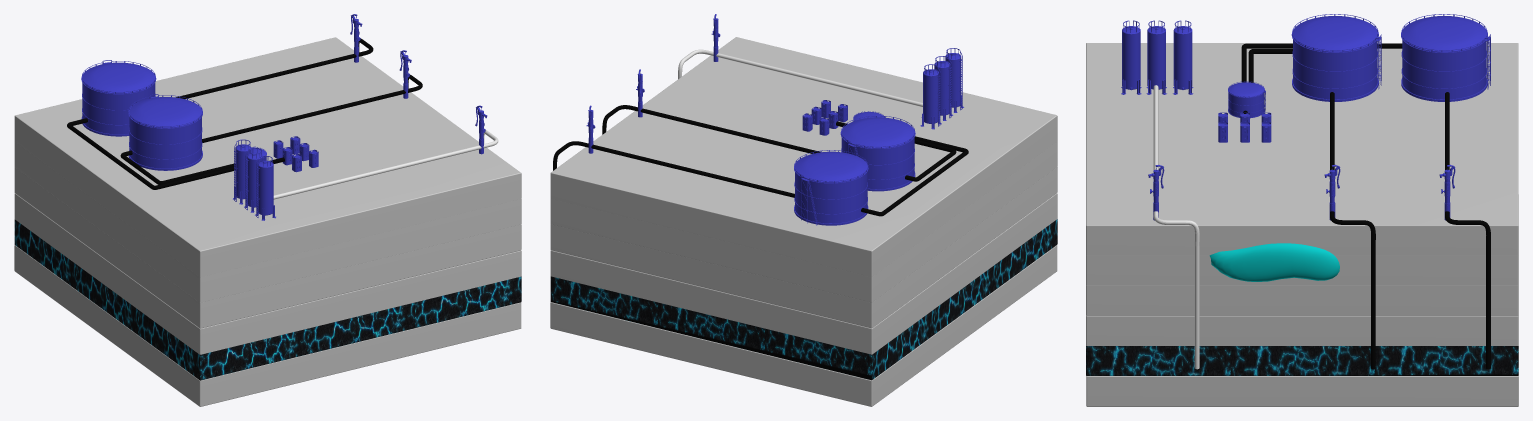
The model's file is Subsuelo.fbx.
The picture shows the model from 3 angles, left to right: view 1: azimuth 30°, elevation 25°; view 2: azimuth 150°, elevation 25°; view 3: azimuth 270°, elevation 25°; orthographic projection. The views are drawn at different scales.
Visible parts, largest first — view 1: subsuelo_1, subsuelo_5, subsuelo_4, subsuelo_3, subsuelo_6, subsuelo_2, Cylinder16, oil_tank:Cylinder16, ModelSubsuelo, pCylinder21, pCylinder20, Vertical_Storage_Tank_Black:Mesh (+3 smaller); view 2: subsuelo_1, subsuelo_5, subsuelo_4, subsuelo_3, subsuelo_6, subsuelo_2, oil_tank:Cylinder16, Cylinder16, ModelSubsuelo, pCylinder21, pCylinder22, pCylinder20 (+3 smaller); view 3: subsuelo_1, subsuelo_5, subsuelo_3, subsuelo_4, subsuelo_6, subsuelo_2, Cylinder16, oil_tank:Cylinder16, pCube11, ModelSubsuelo, pCylinder21, pCylinder20 (+5 smaller).
Part boxes in pixels (left/top/right/bottom): subsuelo_1: left=14, top=37, right=521, bottom=277; subsuelo_5: left=14, top=245, right=521, bottom=406; subsuelo_4: left=14, top=193, right=521, bottom=354; subsuelo_3: left=14, top=167, right=521, bottom=328; subsuelo_6: left=14, top=219, right=521, bottom=380; subsuelo_2: left=14, top=142, right=521, bottom=302; Cylinder16: left=128, top=94, right=202, bottom=170; oil_tank:Cylinder16: left=81, top=60, right=156, bottom=136; ModelSubsuelo: left=233, top=14, right=487, bottom=212; pCylinder21: left=273, top=130, right=498, bottom=199; pCylinder20: left=202, top=75, right=422, bottom=142; Vertical_Storage_Tank_Black:Mesh: left=255, top=155, right=275, bottom=220; subsuelo_1: left=550, top=37, right=1057, bottom=276; subsuelo_5: left=550, top=245, right=1057, bottom=406; subsuelo_4: left=550, top=193, right=1057, bottom=354; subsuelo_3: left=550, top=167, right=1057, bottom=328; subsuelo_6: left=550, top=219, right=1057, bottom=380; subsuelo_2: left=550, top=141, right=1057, bottom=302; oil_tank:Cylinder16: left=794, top=150, right=868, bottom=225; Cylinder16: left=840, top=115, right=915, bottom=191; ModelSubsuelo: left=586, top=14, right=952, bottom=153; pCylinder21: left=678, top=49, right=922, bottom=106; pCylinder22: left=553, top=141, right=794, bottom=197; pCylinder20: left=602, top=105, right=820, bottom=153; subsuelo_1: left=1086, top=43, right=1518, bottom=255; subsuelo_5: left=1086, top=194, right=1518, bottom=406; subsuelo_3: left=1086, top=285, right=1518, bottom=315; subsuelo_4: left=1086, top=315, right=1518, bottom=345; subsuelo_6: left=1086, top=346, right=1518, bottom=375; subsuelo_2: left=1086, top=255, right=1518, bottom=285; Cylinder16: left=1291, top=14, right=1381, bottom=101; oil_tank:Cylinder16: left=1401, top=14, right=1490, bottom=101; pCube11: left=1209, top=243, right=1339, bottom=281; ModelSubsuelo: left=1146, top=20, right=1455, bottom=220; pCylinder21: left=1153, top=85, right=1199, bottom=369; pCylinder20: left=1330, top=92, right=1375, bottom=369.
Size of the model in its own units: 149 by 91.89 by 145.
